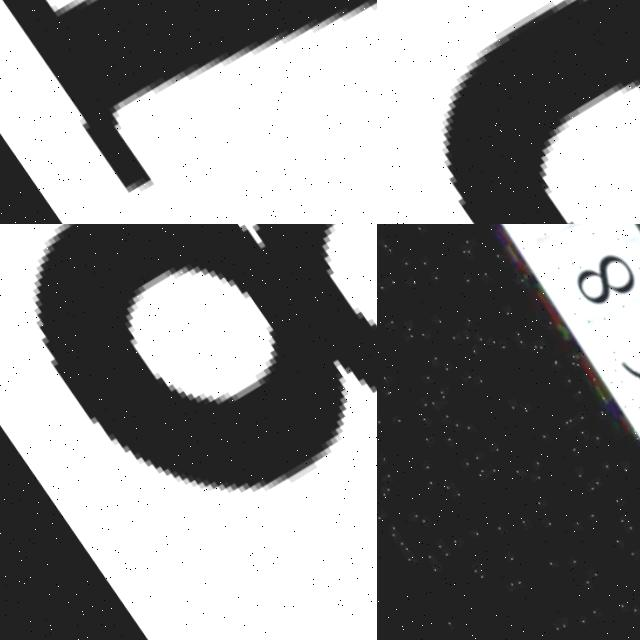6: (377, 0, 640, 224), (577, 298, 640, 427), (485, 224, 624, 264)
8: (0, 224, 377, 619), (534, 224, 640, 341)
F: (0, 0, 377, 224)
